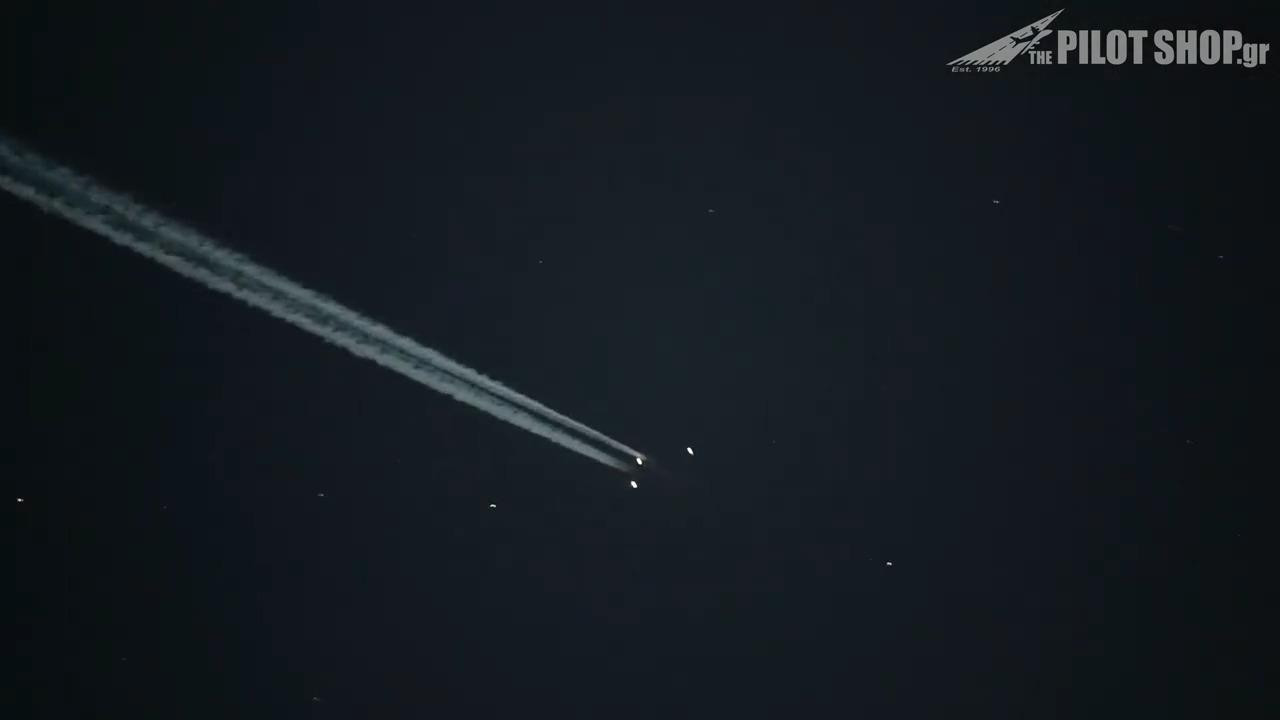Plane: (541, 403, 718, 505)
